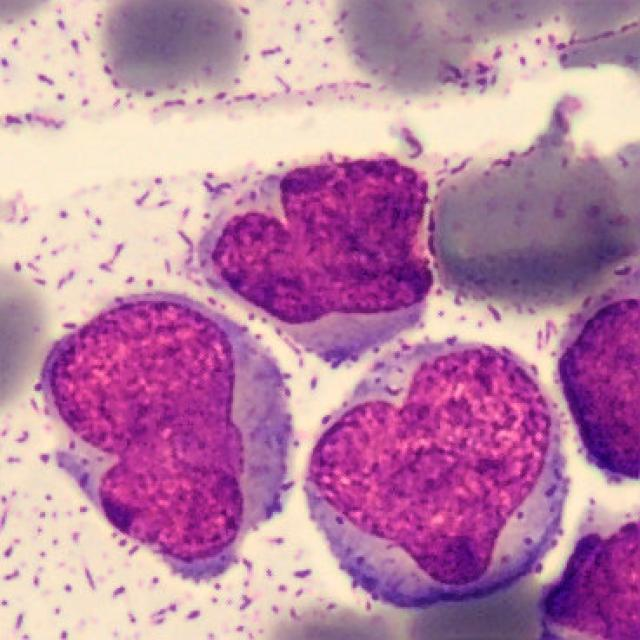Mieloblasto: (304, 339, 565, 611), (38, 294, 294, 566), (195, 154, 435, 367)
